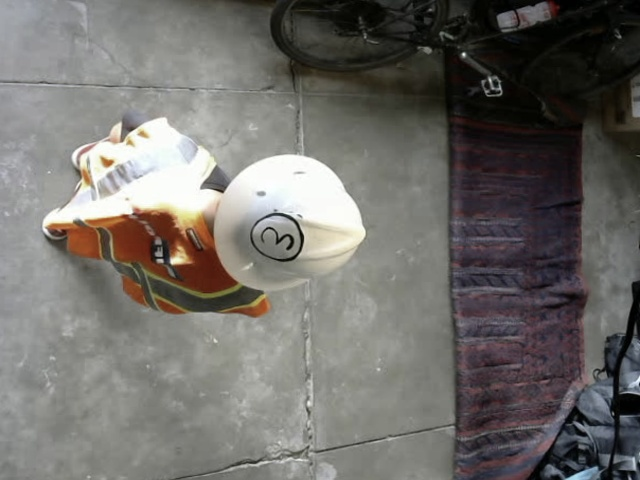three: (250, 212, 304, 262)
